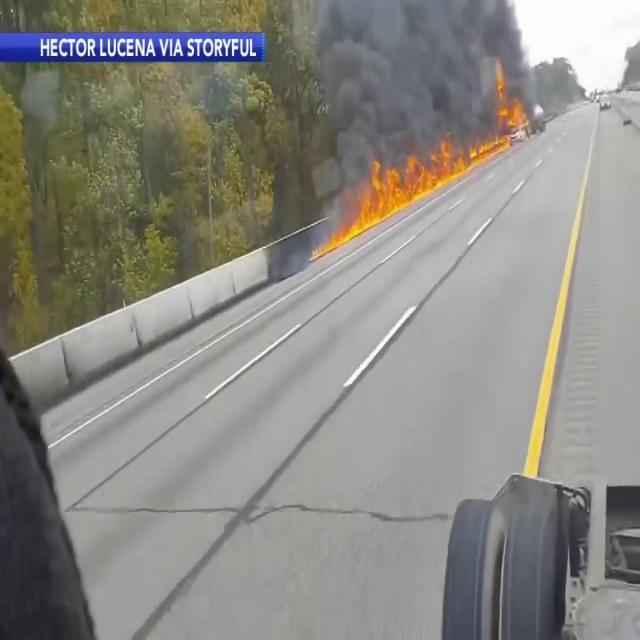Fire: (337, 138, 495, 234), (494, 70, 528, 135)
Smoke: (296, 0, 502, 158)
